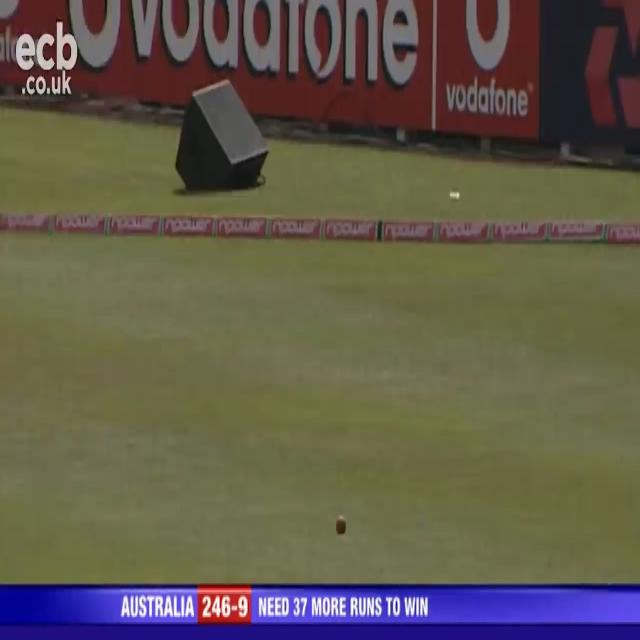ball: (331, 510, 352, 538)
